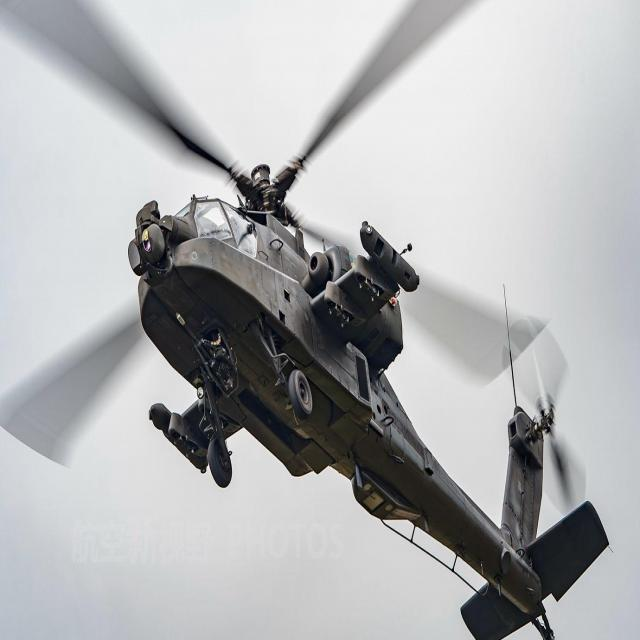MIL_HELO: (0, 1, 624, 640)
